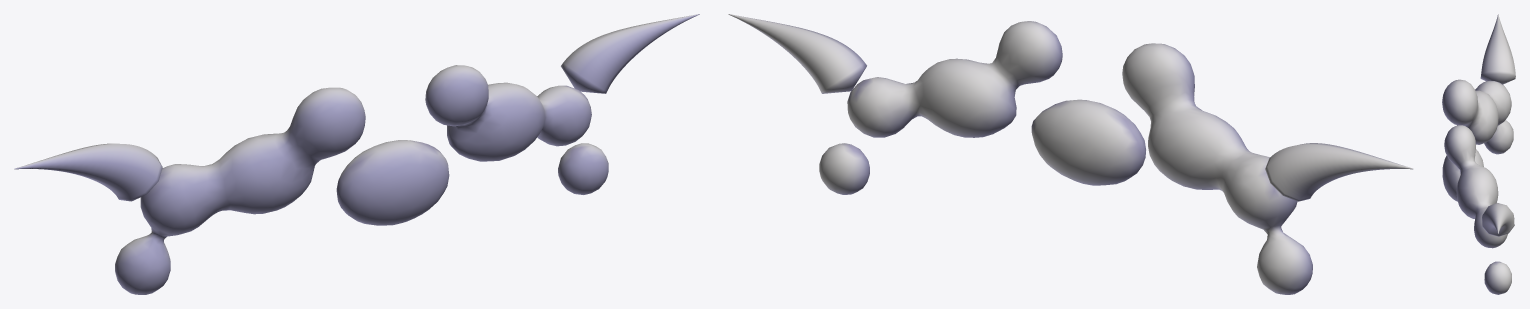
Rendered from gear5_ombros.fbx.
The picture shows the model from 3 angles, left to right: view 1: azimuth 30°, elevation 25°; view 2: azimuth 150°, elevation 25°; view 3: azimuth 270°, elevation 25°; orthographic projection. The views are drawn at different scales.
Parts seen in each view (by area): view 1: gear5_ombros; view 2: gear5_ombros; view 3: gear5_ombros.
Part boxes in pixels (<box>): gear5_ombros: <box>14,14,699,294</box>; gear5_ombros: <box>728,14,1413,294</box>; gear5_ombros: <box>1442,14,1515,294</box>.
Bounding box in the file's own units: 7.24 × 1.97 × 1.06.
